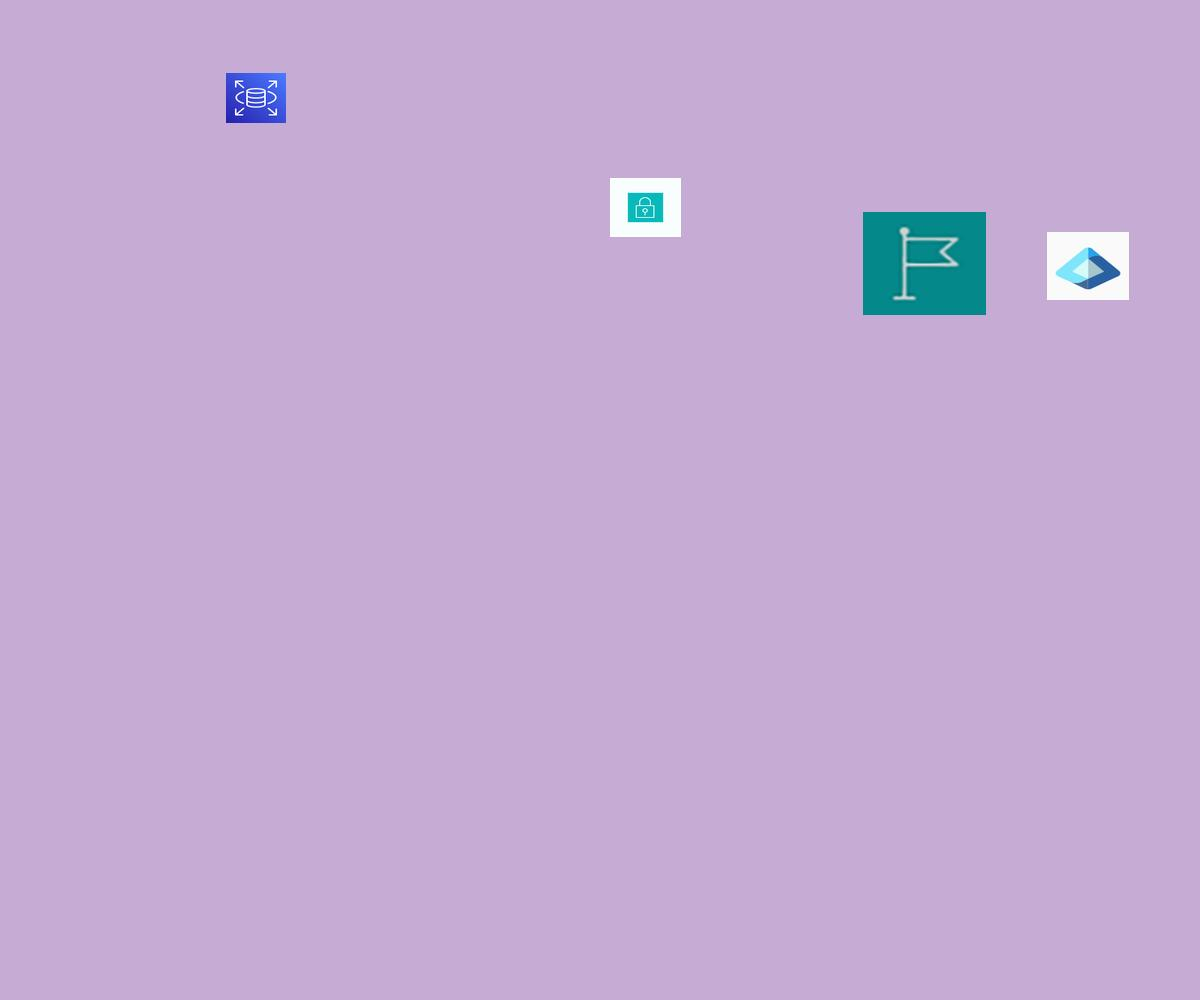AWS-Private-subnet: (610, 178, 681, 237)
AWS-RDS: (226, 73, 286, 123)
AWS-Region: (863, 212, 986, 315)
Azure_microsoft_entra: (1047, 232, 1129, 300)
